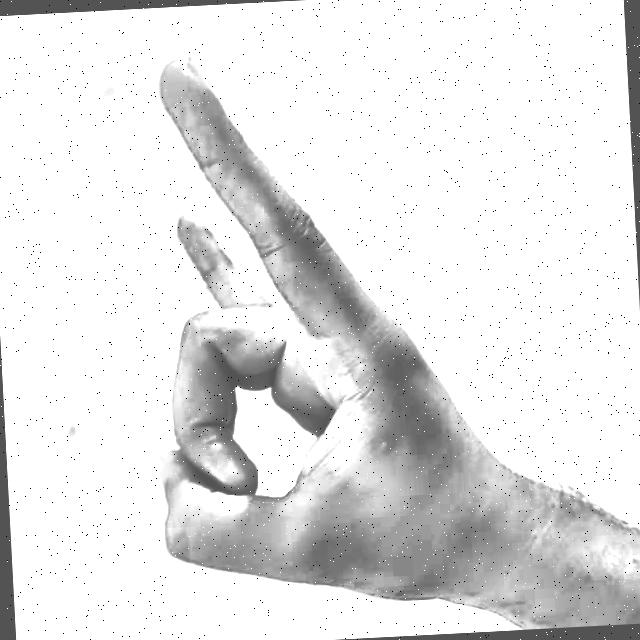Cha: (87, 15, 512, 640)
